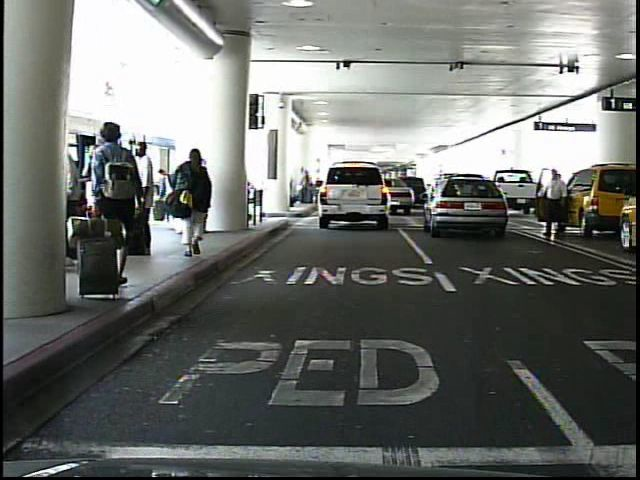person: (87, 115, 141, 300), (175, 145, 218, 266), (125, 138, 160, 257), (540, 167, 569, 240), (182, 155, 206, 233)
